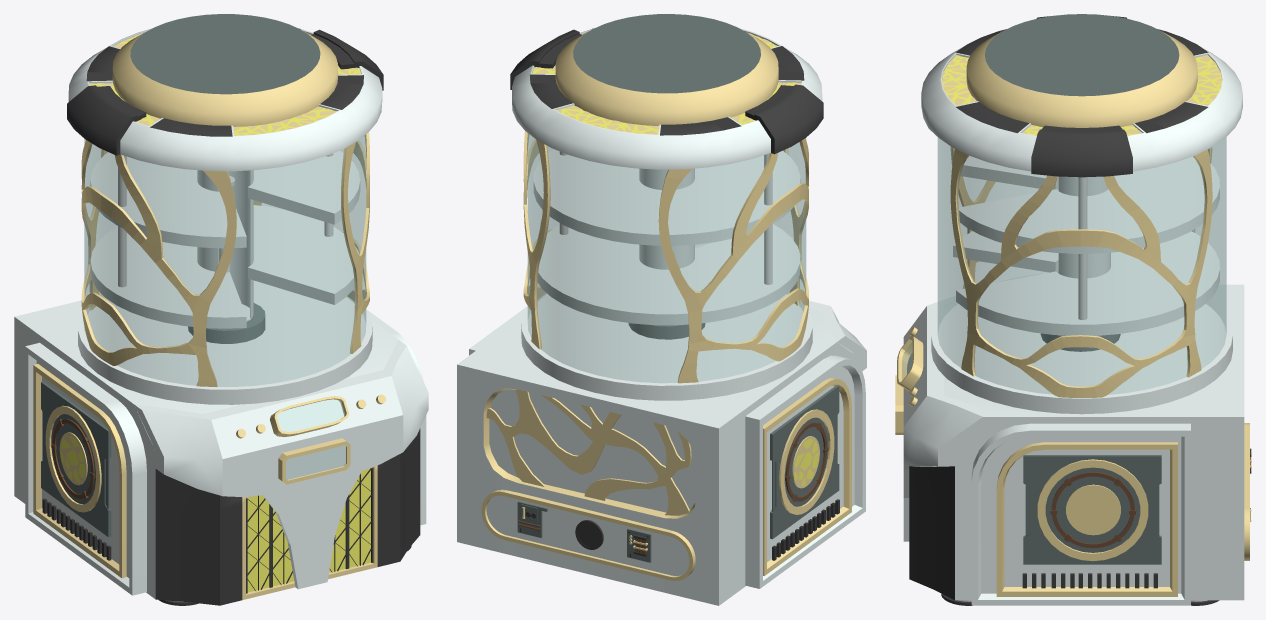
The model's file is Assets_02.fbx.
3 views of the same model, side by side, from view 1: azimuth 30°, elevation 25°; view 2: azimuth 150°, elevation 25°; view 3: azimuth 270°, elevation 25° (orthographic). The views are drawn at different scales.
Parts seen in each view (by area): view 1: DUP_ARNOLD_MAT1_pCube56; view 2: DUP_ARNOLD_MAT1_pCube56; view 3: DUP_ARNOLD_MAT1_pCube56.
Boxes of the visible parts, x1,y1,x2,y2 form: DUP_ARNOLD_MAT1_pCube56: (14,14,428,605); DUP_ARNOLD_MAT1_pCube56: (457,14,866,605); DUP_ARNOLD_MAT1_pCube56: (895,14,1251,605).
Bounding box in the file's own units: 176 × 271 × 180.
